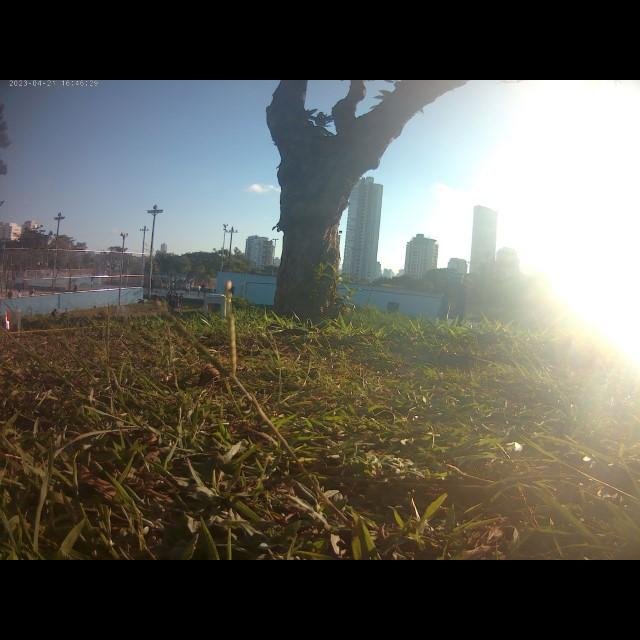arvore: (263, 81, 468, 321)
